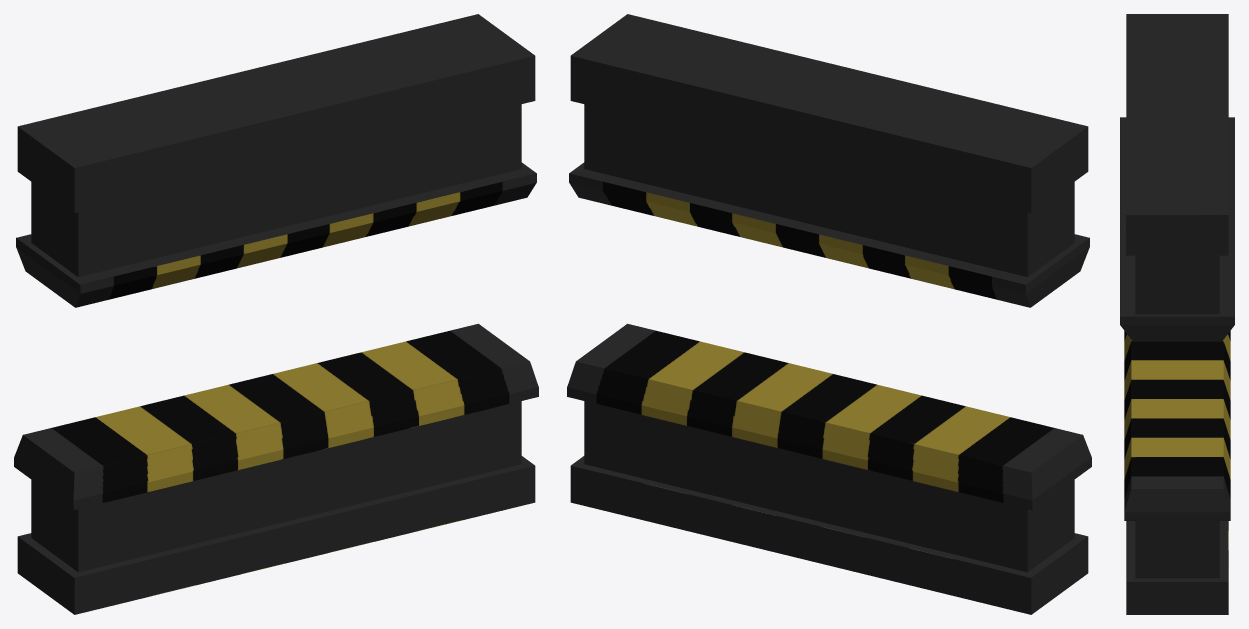
File: Doors.gltf
3 views of the same model, side by side, from view 1: azimuth 30°, elevation 25°; view 2: azimuth 150°, elevation 25°; view 3: azimuth 270°, elevation 25° (orthographic). The views are drawn at different scales.
Visible parts, largest first — view 1: Doors; view 2: Doors; view 3: Doors.
Boxes of the visible parts, bbox=[...] form: Doors: bbox=[14, 14, 538, 614]; Doors: bbox=[567, 14, 1091, 614]; Doors: bbox=[1120, 14, 1234, 614].
Bounding box in the file's own units: 2.83 × 2.59 × 0.6751.
Materials: 1 (1 with a texture image).
